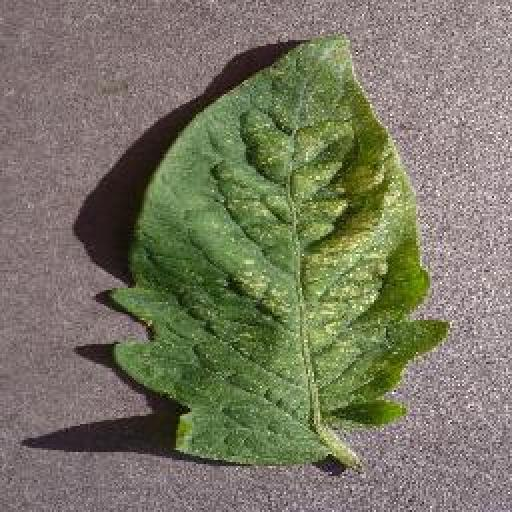disease_tomato: (112, 35, 448, 464)
